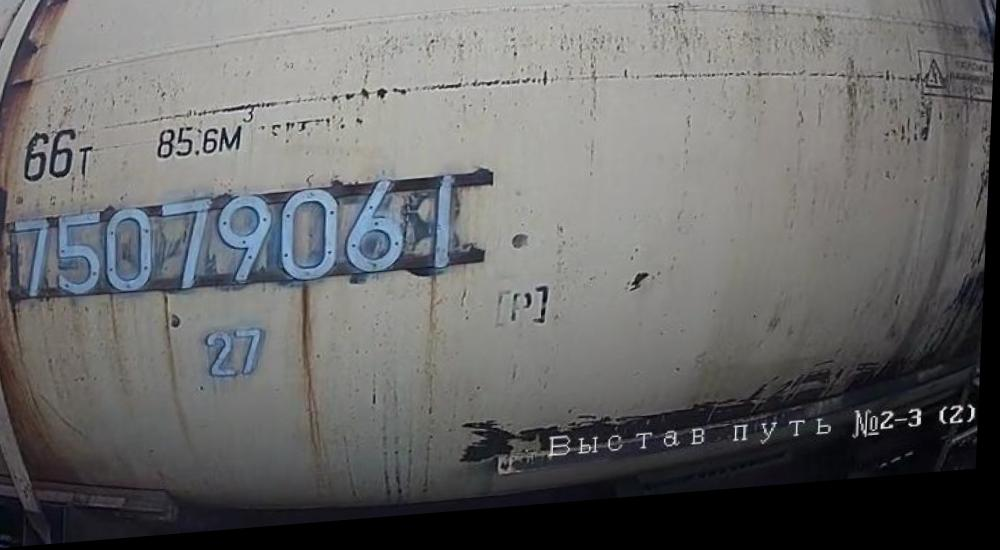Wagon-number: (9, 173, 471, 309)
